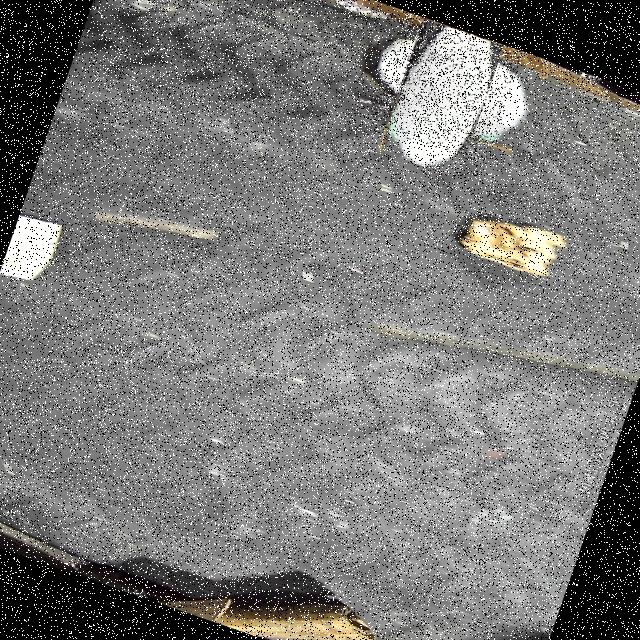milk-jug: (364, 10, 524, 165)
